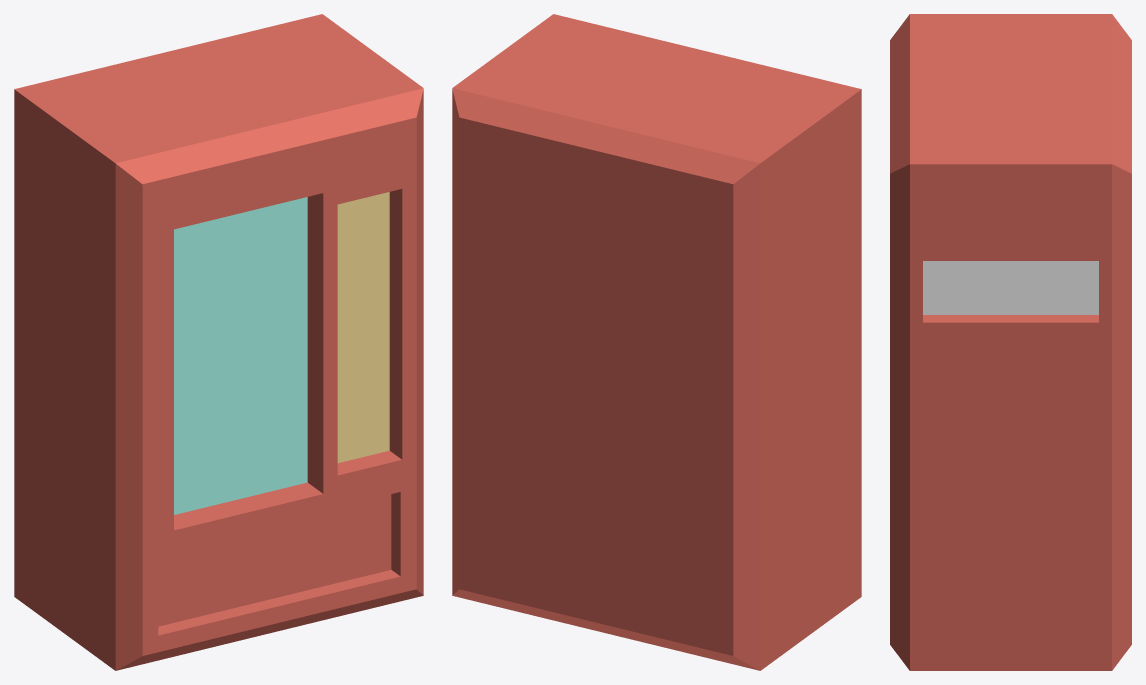
The model's file is VendingMachine.fbx.
3 views of the same model, side by side, from view 1: azimuth 30°, elevation 25°; view 2: azimuth 150°, elevation 25°; view 3: azimuth 270°, elevation 25° (orthographic).
Parts seen in each view (by area): view 1: VendingMachine; view 2: VendingMachine; view 3: VendingMachine.
Part boxes in pixels (bbox=[...]): VendingMachine: bbox=[14, 14, 423, 670]; VendingMachine: bbox=[452, 14, 861, 670]; VendingMachine: bbox=[890, 14, 1131, 670].
Size of the model in its own units: 141 by 221 by 95.66.
